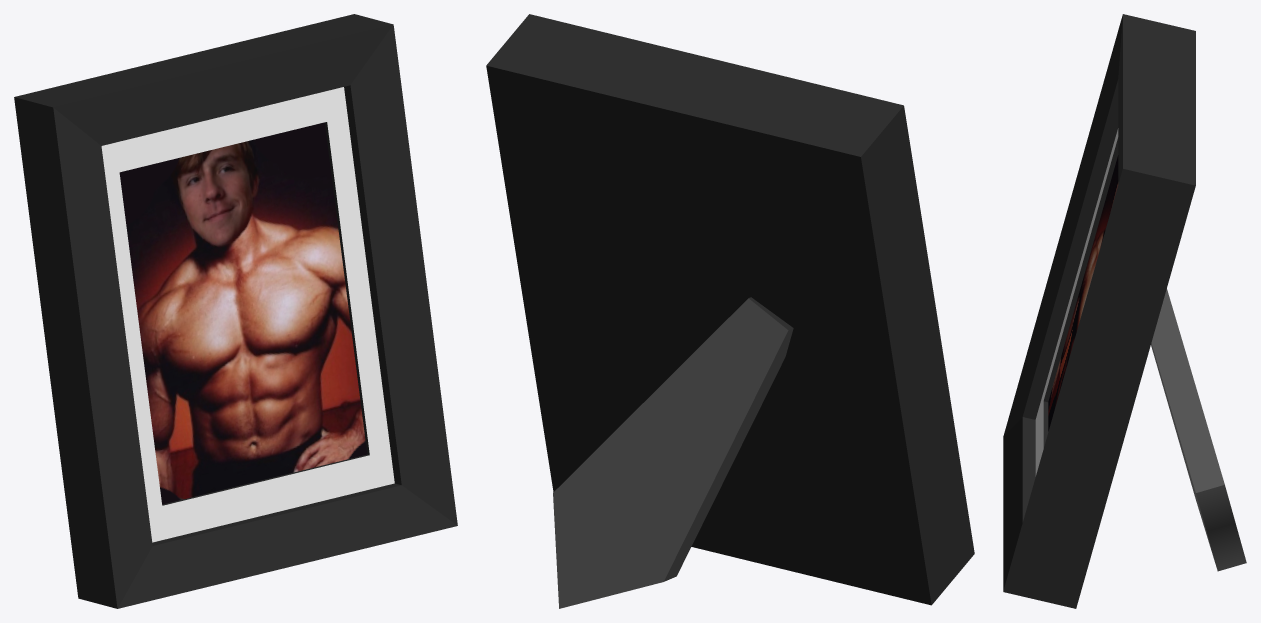
Rendered from Picture_Frame.fbx.
The picture shows the model from 3 angles, left to right: view 1: azimuth 30°, elevation 25°; view 2: azimuth 150°, elevation 25°; view 3: azimuth 270°, elevation 25°; orthographic projection. The views are drawn at different scales.
Visible parts, largest first — view 1: pCube52.001; view 2: pCube52.001; view 3: pCube52.001.
Boxes of the visible parts, <box> form: pCube52.001: <box>14,14,457,608</box>; pCube52.001: <box>486,14,974,608</box>; pCube52.001: <box>1003,14,1246,608</box>.
Size of the model in its own units: 0.8436 by 1.13 by 0.5614.
1 material, 1 textured.
